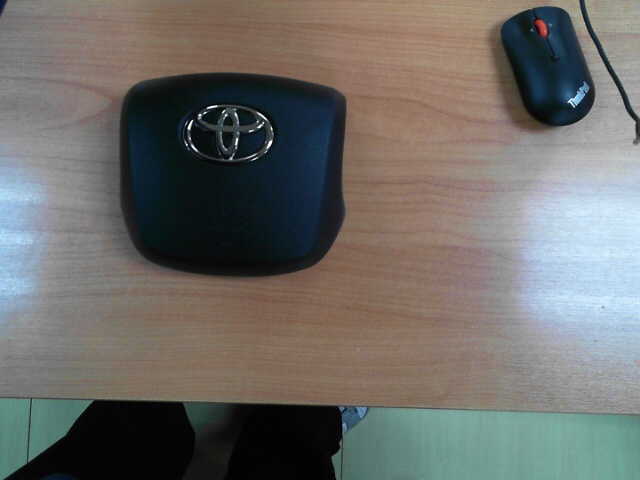AirbagV2: (122, 74, 346, 273)
